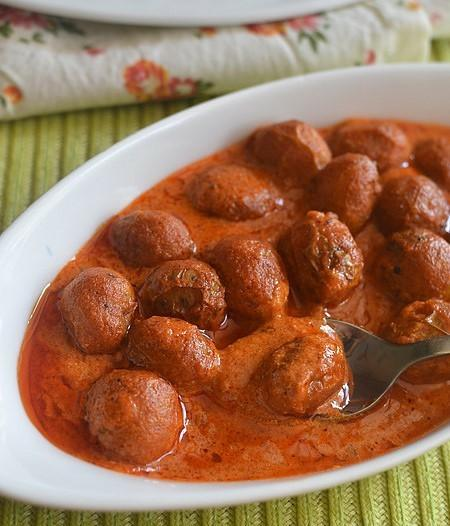DumAloo: (15, 115, 450, 484)
